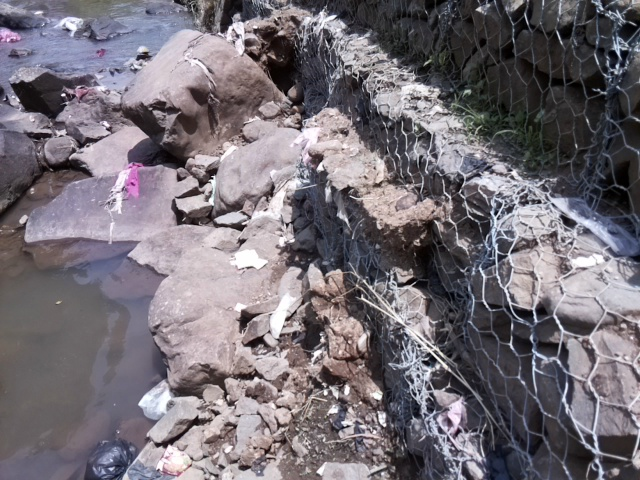Sampah_Plastik: (107, 161, 141, 224), (83, 438, 132, 480), (135, 377, 180, 418), (55, 14, 82, 37), (1, 27, 25, 45)
Sampah_Styrofoam: (231, 245, 268, 270)
